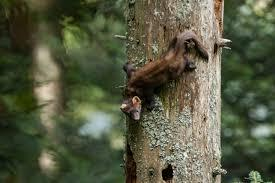Non_Gorille: (104, 17, 235, 154)
